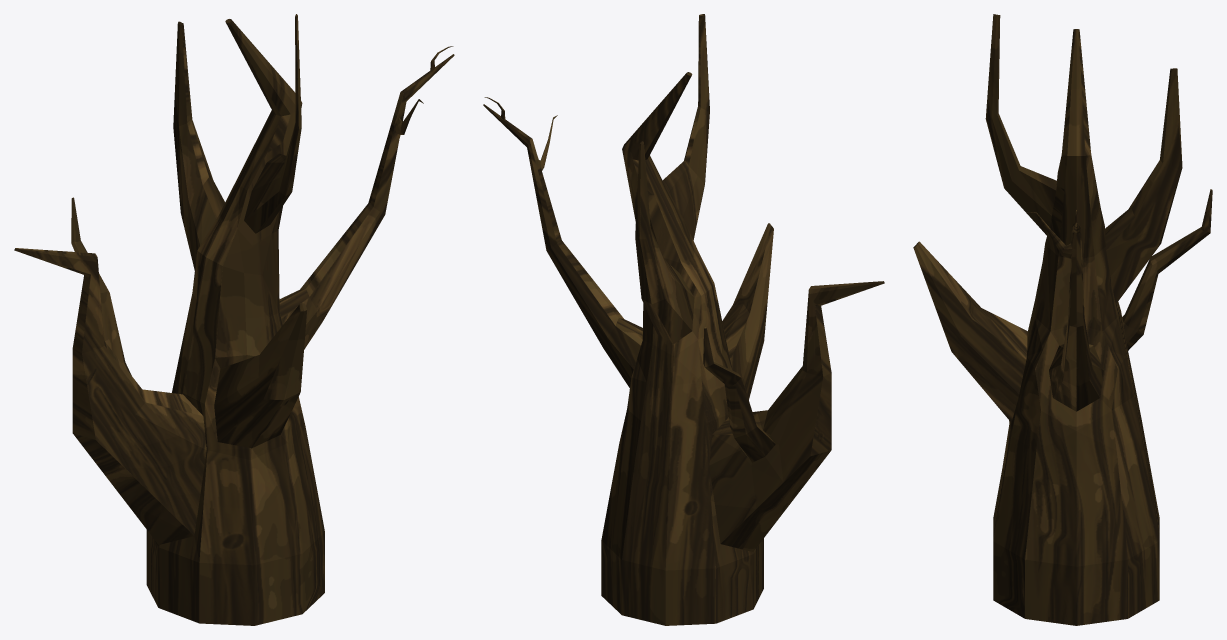
File: Dead_Tree02.fbx
3 renders of one model, left to right at view 1: azimuth 30°, elevation 25°; view 2: azimuth 150°, elevation 25°; view 3: azimuth 270°, elevation 25°, orthographic. The views are drawn at different scales.
Visible parts, largest first — view 1: Dead_Tree02; view 2: Dead_Tree02; view 3: Dead_Tree02.
Part boxes in pixels (x1,y1,x2,y2): Dead_Tree02: (14, 14, 454, 625); Dead_Tree02: (483, 14, 884, 625); Dead_Tree02: (913, 14, 1212, 625).
Size of the model in its own units: 296 by 179 by 385.
